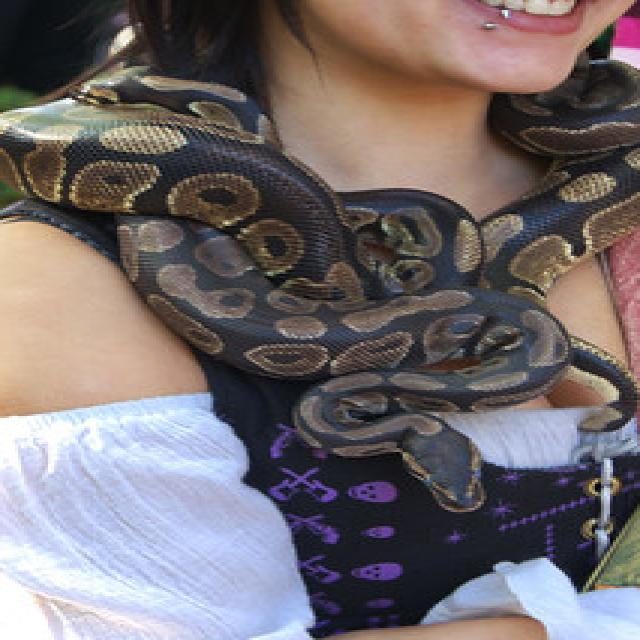Snake: (0, 18, 640, 512)
